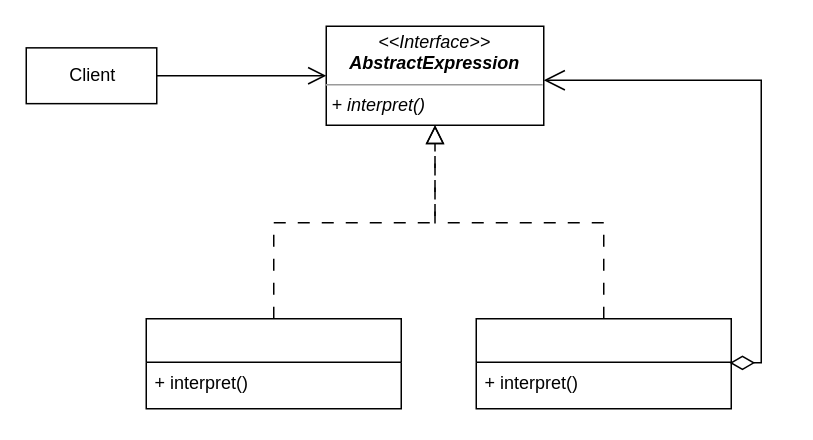
Image size: 813x440. Some labels were removed from this diagram. Here are the shapes that lost their labels. From the top down, the box of each, then its label:
(145, 317, 401, 409): TerminalExpression
(475, 317, 731, 409): NonterminalExpression
